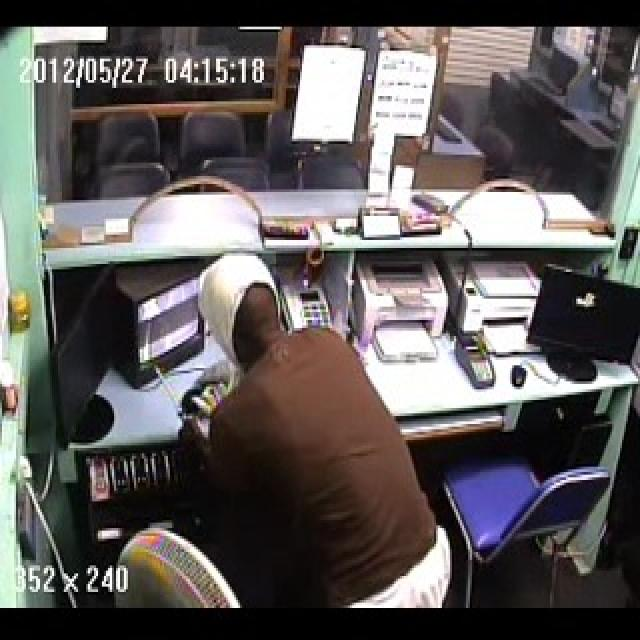thief: (177, 242, 465, 610)
